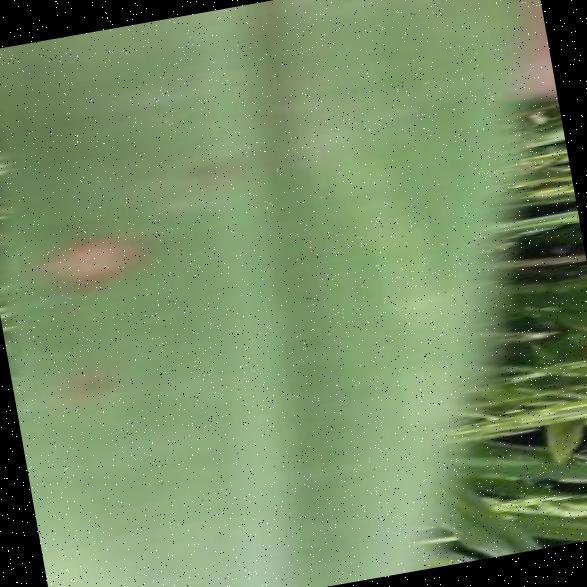Leaf_smut: (14, 168, 162, 312)
